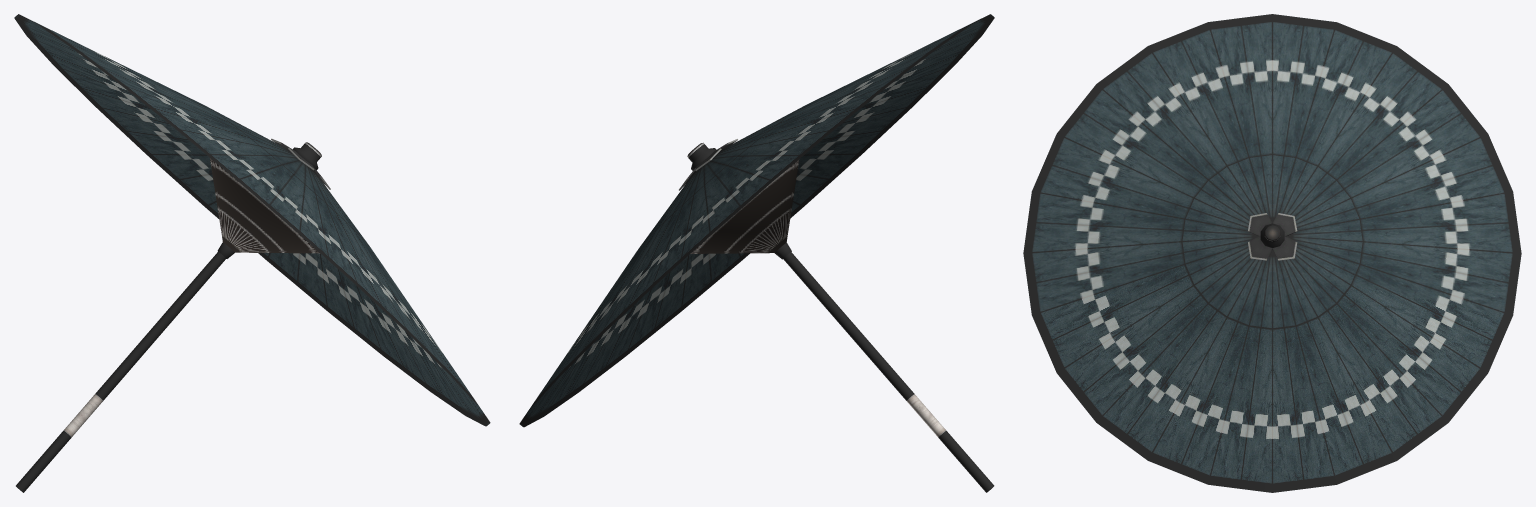
File: UmbrellaOpen01.fbx
3 views of the same model, side by side, from view 1: azimuth 30°, elevation 25°; view 2: azimuth 150°, elevation 25°; view 3: azimuth 270°, elevation 25° (orthographic). The views are drawn at different scales.
Visible parts, largest first — view 1: UmbrellaOpen01; view 2: UmbrellaOpen01; view 3: UmbrellaOpen01.
Part boxes in pixels (x1,y1,x2,y2): UmbrellaOpen01: (14,14,490,492); UmbrellaOpen01: (519,14,994,492); UmbrellaOpen01: (1023,14,1521,492).
Bounding box in the file's own units: 112 × 111 × 147.
1 material, 1 textured.
